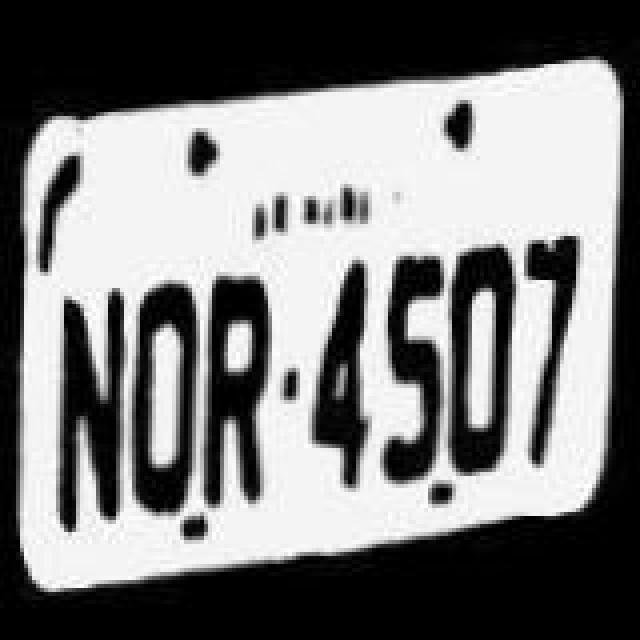4: (300, 254, 380, 494)
5: (370, 252, 454, 484)
7: (518, 214, 594, 474)
N: (46, 286, 134, 538)
O: (122, 250, 202, 514), (442, 230, 526, 474)
R: (196, 272, 288, 512)
